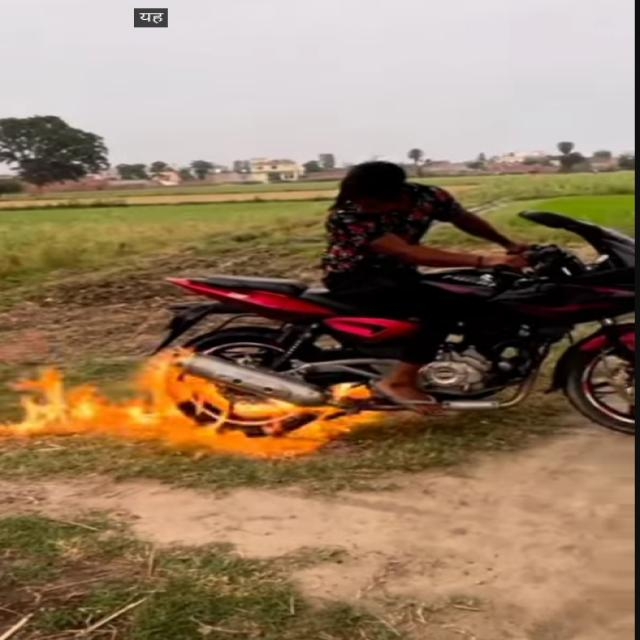fire: (0, 346, 375, 458)
